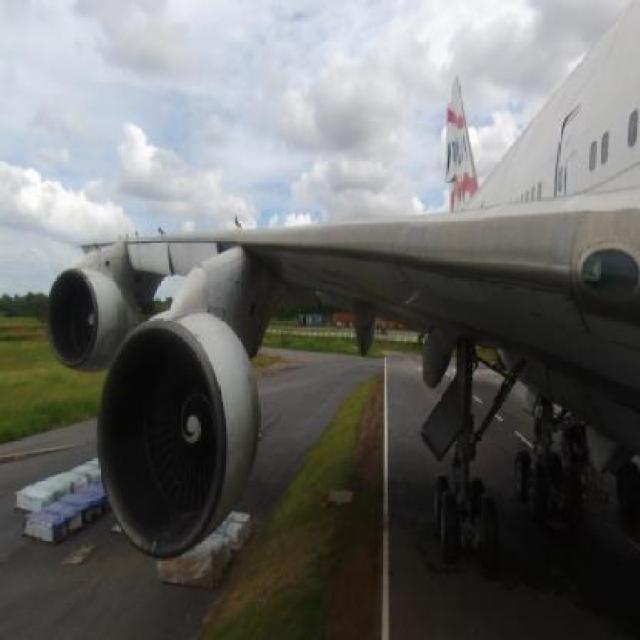Scartch: (446, 276, 571, 301)
